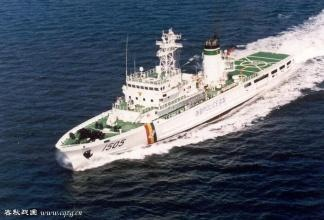warship: (45, 22, 293, 173)
